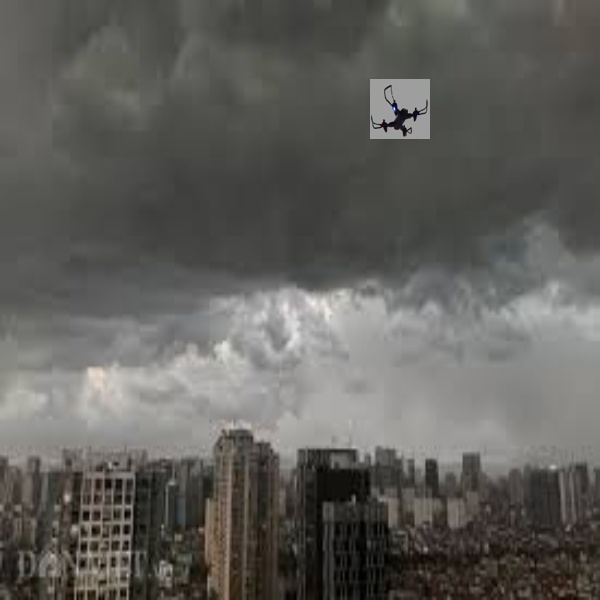drone: (369, 78, 429, 140)
